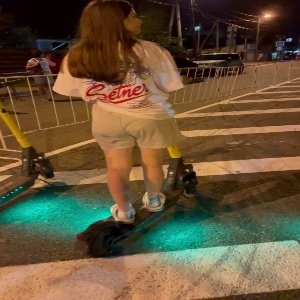human on a scooter: (50, 1, 205, 259)
